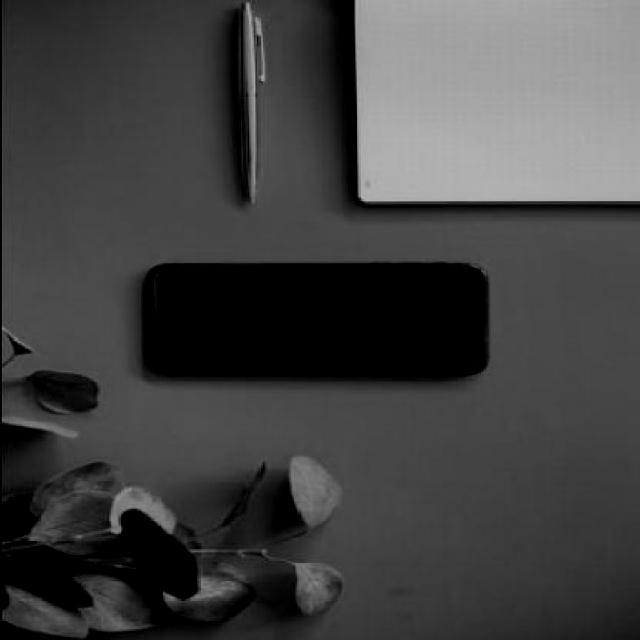fake: (150, 263, 486, 374)
